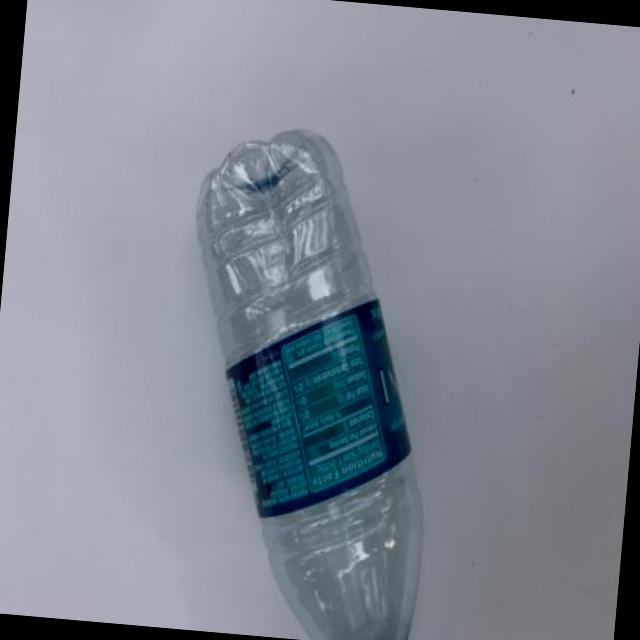Trash: (158, 117, 460, 640)
